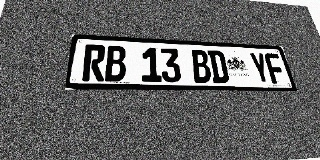1: (141, 47, 162, 82)
3: (160, 48, 181, 82)
B: (105, 45, 126, 82), (190, 49, 212, 83)
D: (207, 50, 230, 83)
F: (263, 53, 287, 84)
R: (82, 44, 106, 81)
Y: (248, 52, 272, 84)
